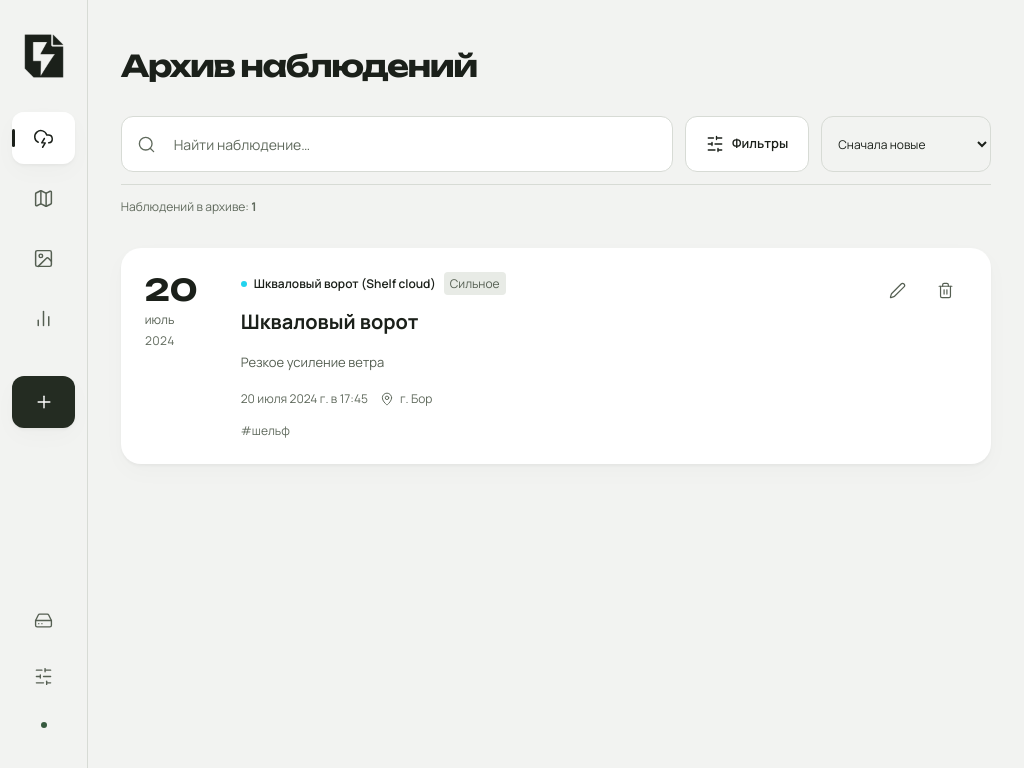
Test: viewing, editing and deleting › opens the detail dialog with the stored field values
The image size is (1024, 768).
What coordinates should you click on to do the following:
click the button "Шкваловый ворот"
I would click on:
 (330, 321)
Its box is [241,299,418,343].
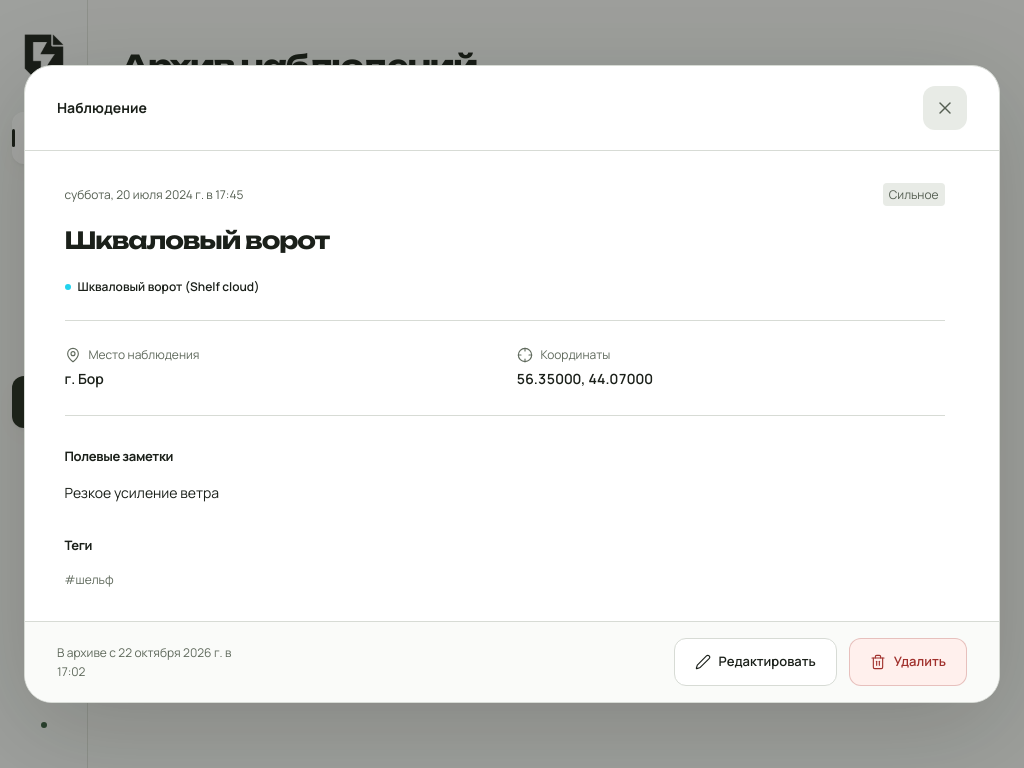
Now the text "г. Бор" is shown, box [64,370,104,388]
Now the text "Резкое усиление ветра" is shown, box [64,483,219,502]
Now the text "56.35000, 44.07000" is shown, box [516,370,653,388]
